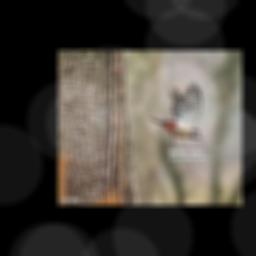Woodpecker: (148, 79, 203, 144)
